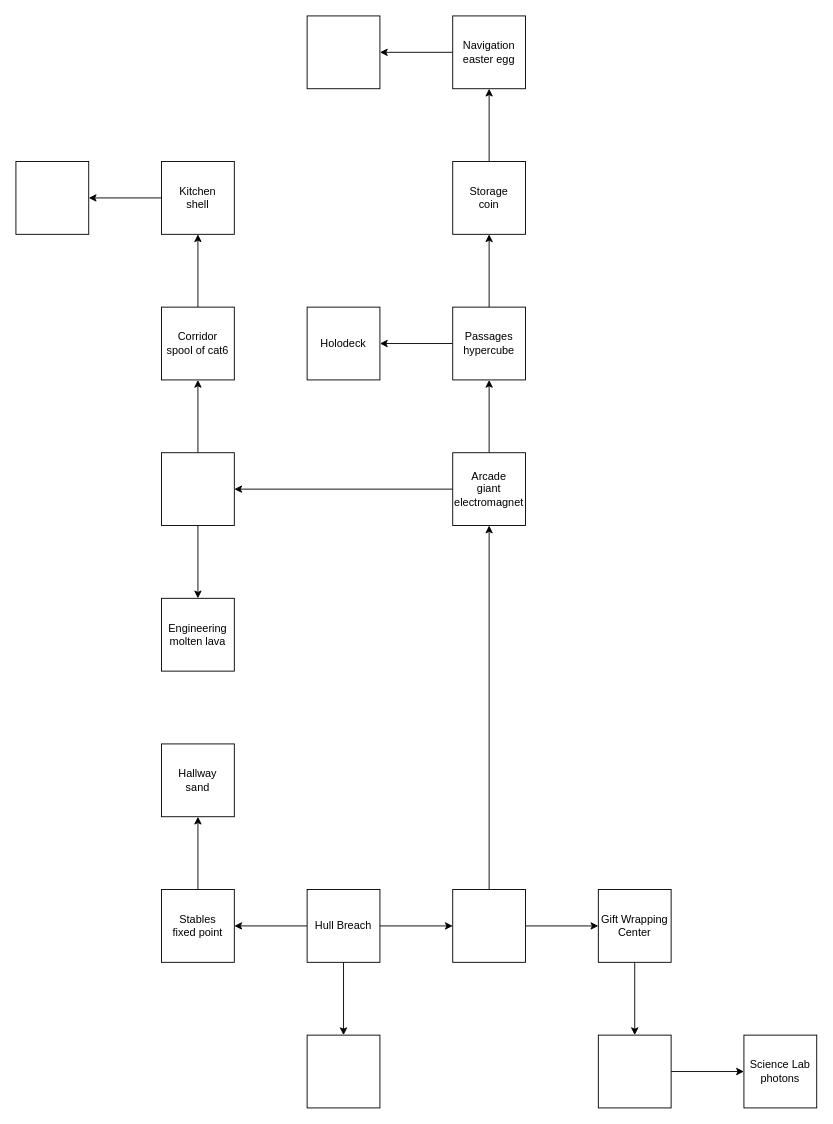
The diagram is 833 pixels wide and 1124 high, and some of its shapes have lost their labels. The shapes that lost their labels are listed below. From the top down, each one's box as (x1, y1, x2, y2) in pixels, then its label:
(306, 15, 380, 89): Hot Chocolate Fountain
(15, 161, 89, 234): Security Checkpoint
(161, 452, 234, 526): Crew Quarters
(452, 889, 526, 962): Observatory asterisk
(306, 1034, 380, 1108): Sick Bay infinite loop
(597, 1034, 671, 1108): Warp Drive Maintenance escape pod
